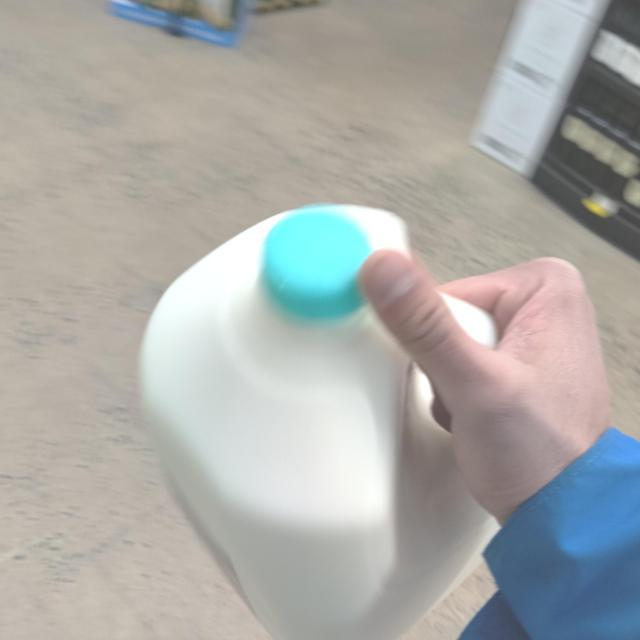milk: (108, 195, 530, 640)
